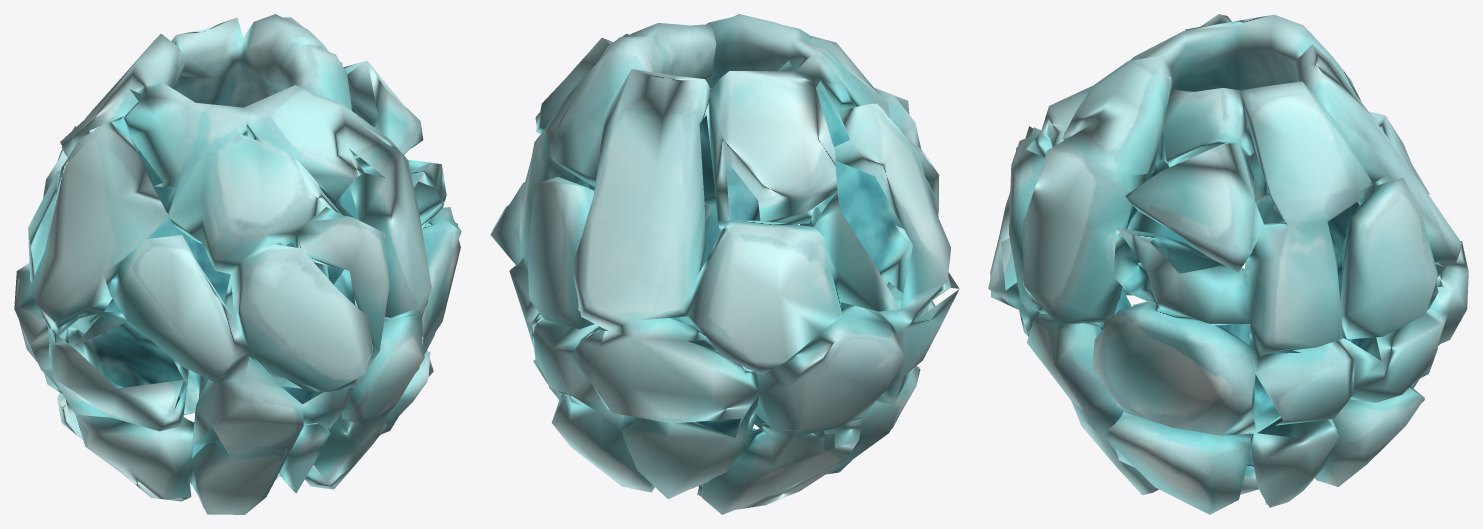
The model's file is led-paryashchiy-vykhod.glb.
The picture shows the model from 3 angles, left to right: view 1: azimuth 30°, elevation 25°; view 2: azimuth 150°, elevation 25°; view 3: azimuth 270°, elevation 25°; orthographic projection. The views are drawn at different scales.
Parts seen in each view (by area): view 1: geometry_0; view 2: geometry_0; view 3: geometry_0.
Part boxes in pixels (left/top/right/bottom): geometry_0: left=14, top=14, right=461, bottom=514; geometry_0: left=490, top=14, right=959, bottom=514; geometry_0: left=988, top=14, right=1468, bottom=514.
Bounding box in the file's own units: 0.9776 × 0.9485 × 0.9335.
Materials: 1 (1 with a texture image).
